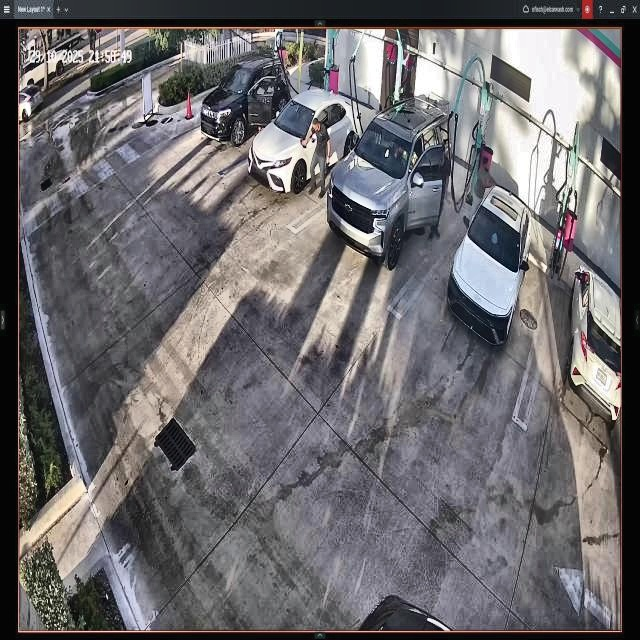Car: (324, 97, 450, 264), (449, 186, 529, 352), (251, 89, 360, 191), (200, 62, 284, 139)
